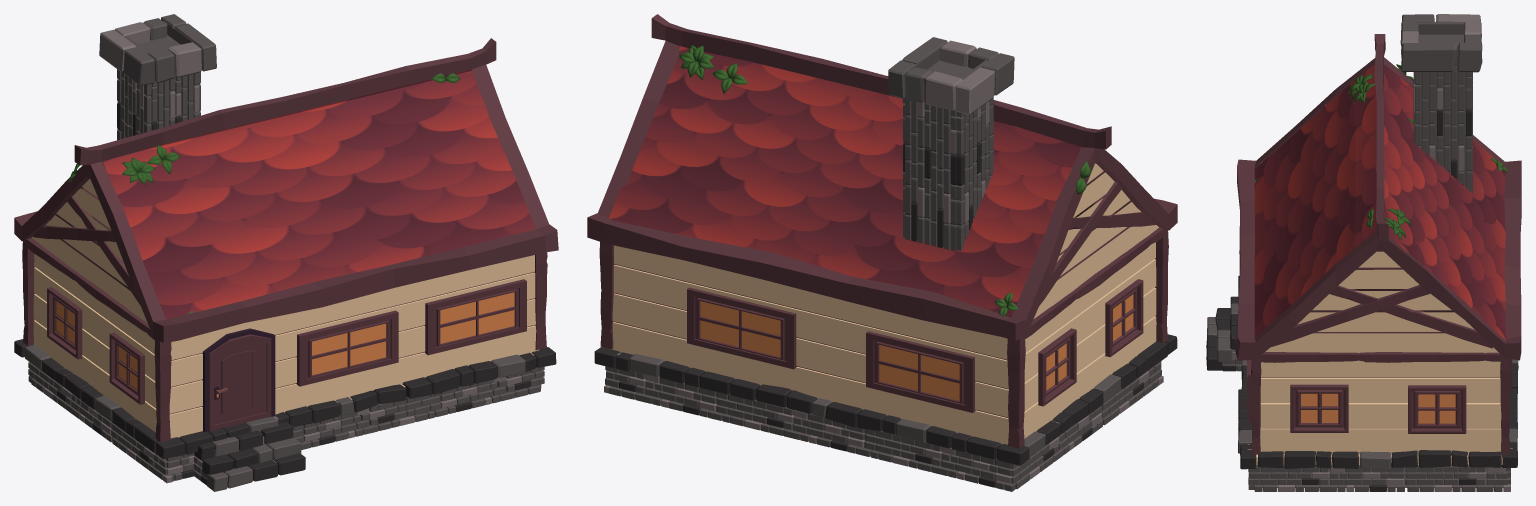
The model's file is casa-madeira12.fbx.
3 views of the same model, side by side, from view 1: azimuth 30°, elevation 25°; view 2: azimuth 150°, elevation 25°; view 3: azimuth 270°, elevation 25° (orthographic). The views are drawn at different scales.
Visible parts, largest first — view 1: CasaMadeira12_LOD0, PortaCasaMadeira12; view 2: CasaMadeira12_LOD0; view 3: CasaMadeira12_LOD0.
Part boxes in pixels (left/top/right/bottom): CasaMadeira12_LOD0: left=14, top=14, right=558, bottom=491; PortaCasaMadeira12: left=209, top=334, right=271, bottom=431; CasaMadeira12_LOD0: left=587, top=14, right=1177, bottom=491; CasaMadeira12_LOD0: left=1206, top=14, right=1521, bottom=491.
Size of what is drawn, in the model's own units: 6.87 by 5.47 by 4.74.
